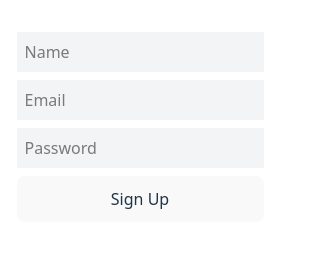
Test case: SignupForm › submits successfully
In the field with test id "input-name": (140, 52) [16,32,264,72], type "Alice"
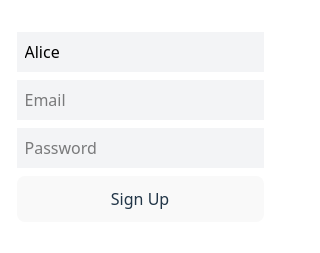
In the field with test id "input-email": (140, 100) [16,80,264,120], type "alice@example.com"
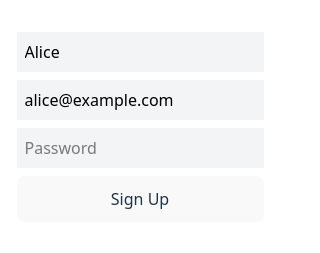
In the password field with test id "input-password": (140, 148) [16,128,264,168], type "mypassword"
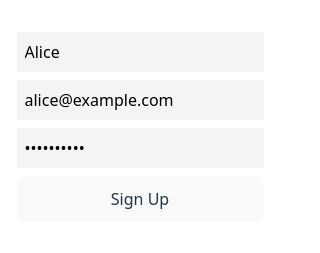
Click the button with test id "submit-button": (140, 199) [16,176,264,222]
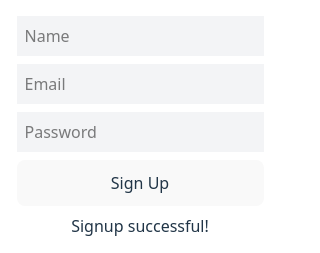
Expected: the text "Signup successful!" is shown, [71,215,209,237]
